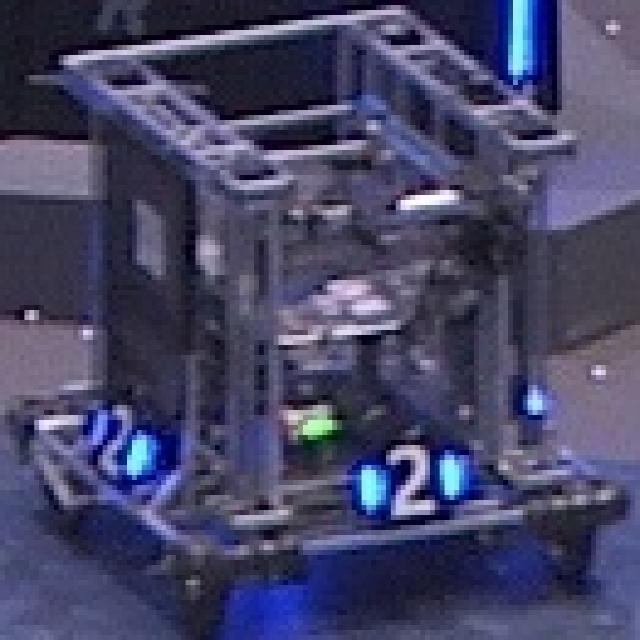B2: (357, 440, 464, 515), (88, 400, 151, 475)
